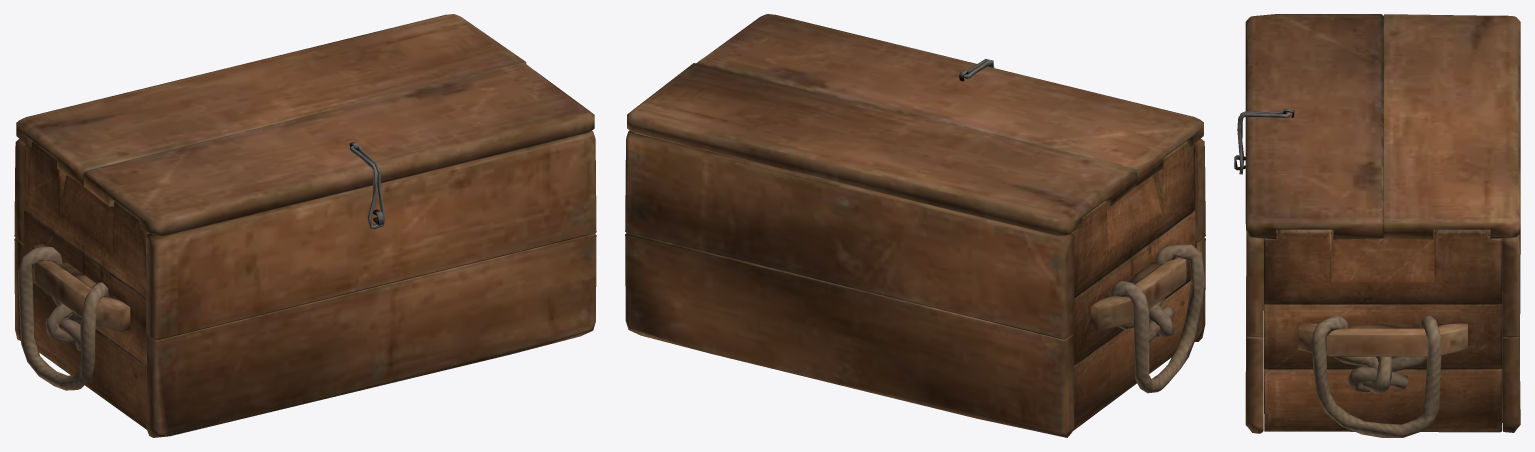
Rendered from wooden_crate_01.glb.
3 renders of one model, left to right at view 1: azimuth 30°, elevation 25°; view 2: azimuth 150°, elevation 25°; view 3: azimuth 270°, elevation 25°, orthographic. The views are drawn at different scales.
Parts seen in each view (by area): view 1: wooden_crate_01, wooden_crate_01_lid, wooden_crate_01_latch; view 2: wooden_crate_01, wooden_crate_01_lid; view 3: wooden_crate_01_lid, wooden_crate_01, wooden_crate_01_latch.
Boxes of the visible parts, x1=… form: wooden_crate_01: x1=14, y1=131, x2=596, y2=437; wooden_crate_01_lid: x1=16, y1=14, x2=594, y2=236; wooden_crate_01_latch: x1=350, y1=145, x2=385, y2=229; wooden_crate_01: x1=625, y1=130, x2=1205, y2=437; wooden_crate_01_lid: x1=627, y1=14, x2=1203, y2=236; wooden_crate_01_lid: x1=1245, y1=14, x2=1520, y2=239; wooden_crate_01: x1=1234, y1=155, x2=1520, y2=437; wooden_crate_01_latch: x1=1237, y1=111, x2=1290, y2=174.
Size of the model in its own units: 0.8245 by 0.3486 by 0.407.
Materials: 1 (1 with a texture image).
